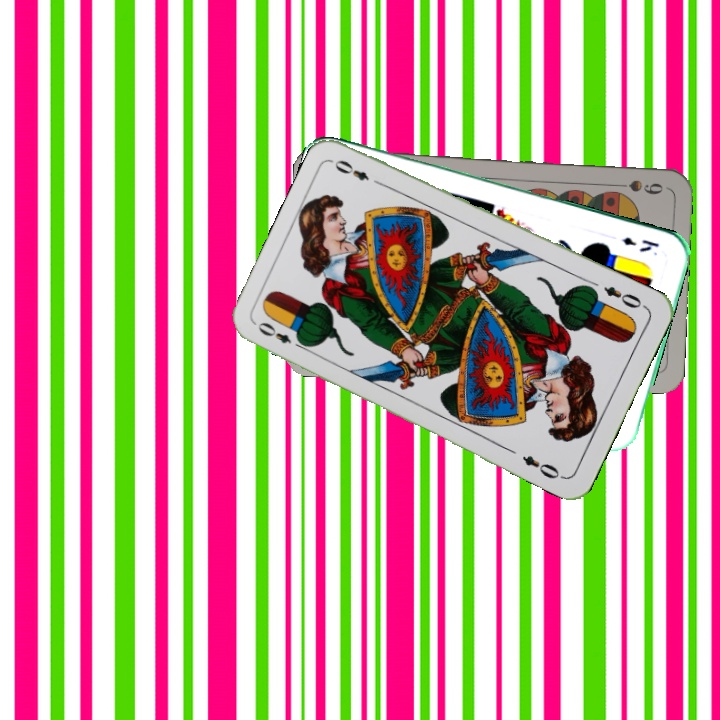EK: (618, 232, 662, 255)
EO: (253, 318, 308, 352), (599, 282, 649, 311)
S9: (608, 176, 666, 198)
